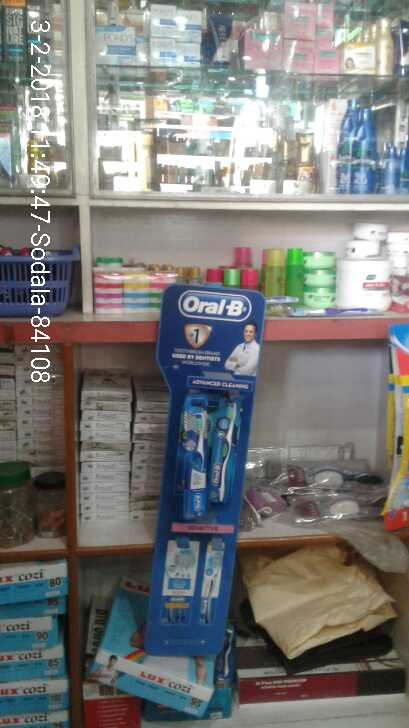oralb: (209, 388, 246, 504), (181, 398, 214, 516)
